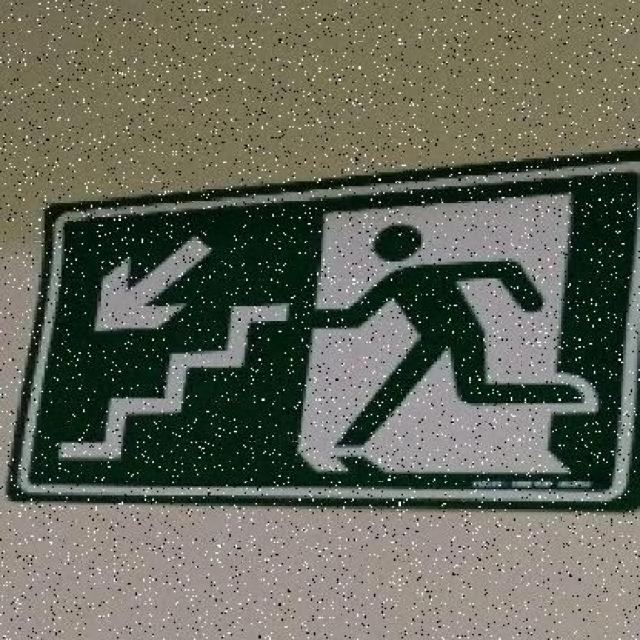emergency_exit: (6, 151, 639, 510)
